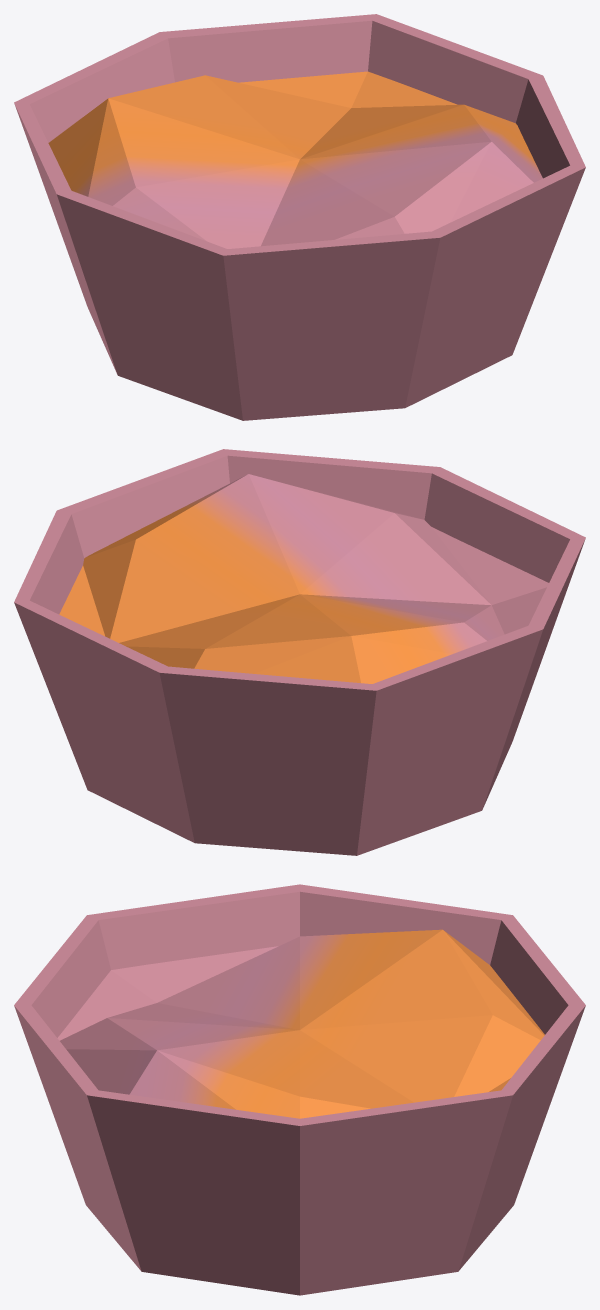
Rendered from laundry_basket.fbx.
3 renders of one model, top to bottom at view 1: azimuth 30°, elevation 25°; view 2: azimuth 150°, elevation 25°; view 3: azimuth 270°, elevation 25°, orthographic.
Visible parts, largest first — view 1: laundry_basket; view 2: laundry_basket; view 3: laundry_basket.
Part boxes in pixels (<box>): laundry_basket: <box>14,14,585,420</box>; laundry_basket: <box>14,449,585,855</box>; laundry_basket: <box>14,884,585,1295</box>.
Bounding box in the file's own units: 95.67 × 40.49 × 95.67.
